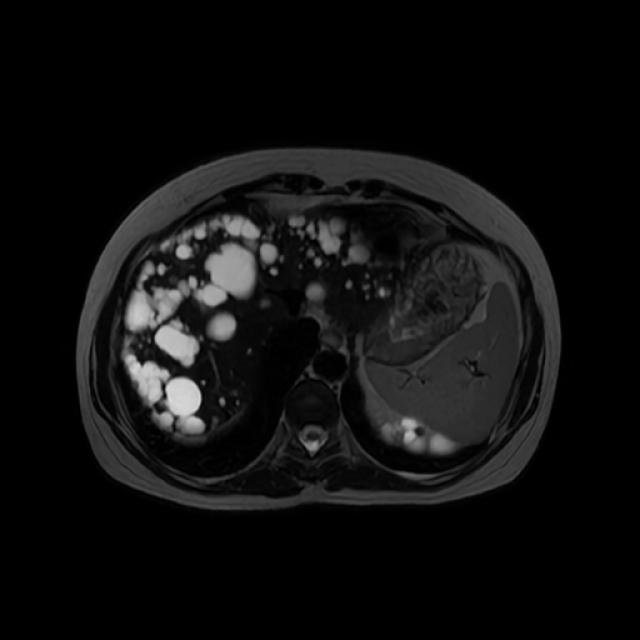sol: (377, 416, 469, 456)
